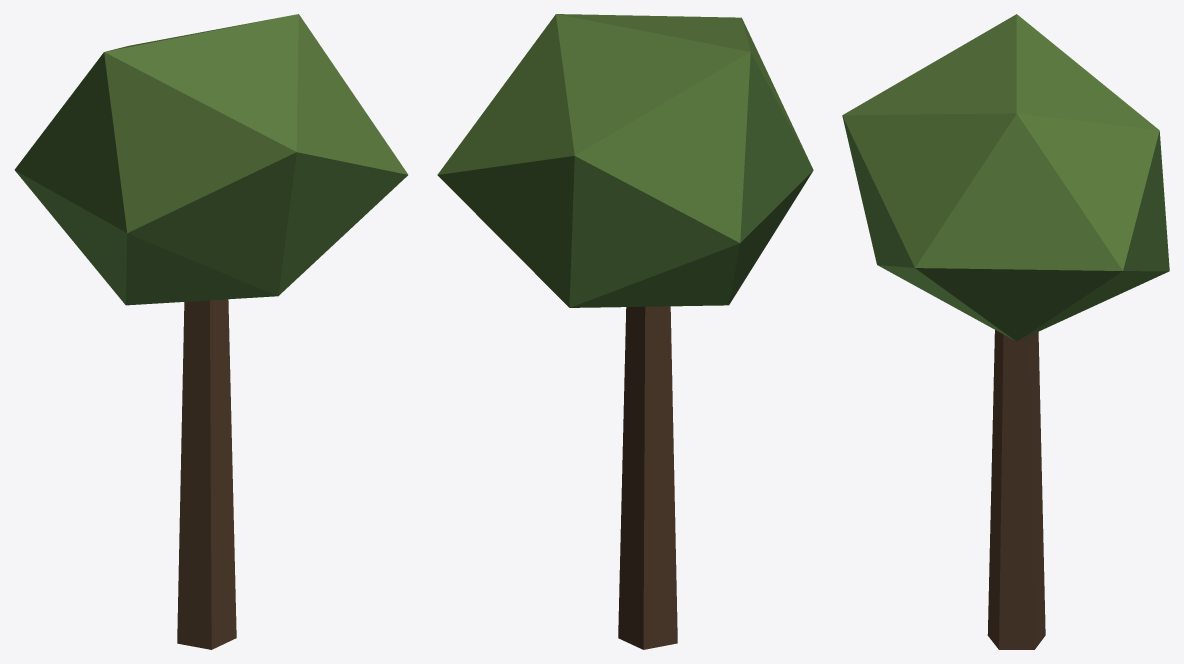
The model's file is Low Poly - Leafy Tree-CJy1cNmS.glb.
The picture shows the model from 3 angles, left to right: view 1: azimuth 30°, elevation 25°; view 2: azimuth 150°, elevation 25°; view 3: azimuth 270°, elevation 25°; orthographic projection. The views are drawn at different scales.
Parts seen in each view (by area): view 1: body; view 2: body; view 3: body.
Boxes of the visible parts, left/top/right/bottom form: body: left=14, top=14, right=408, bottom=649; body: left=437, top=14, right=813, bottom=649; body: left=842, top=14, right=1169, bottom=649.
Bounding box in the file's own units: 1.07 × 2.1 × 1.08.
